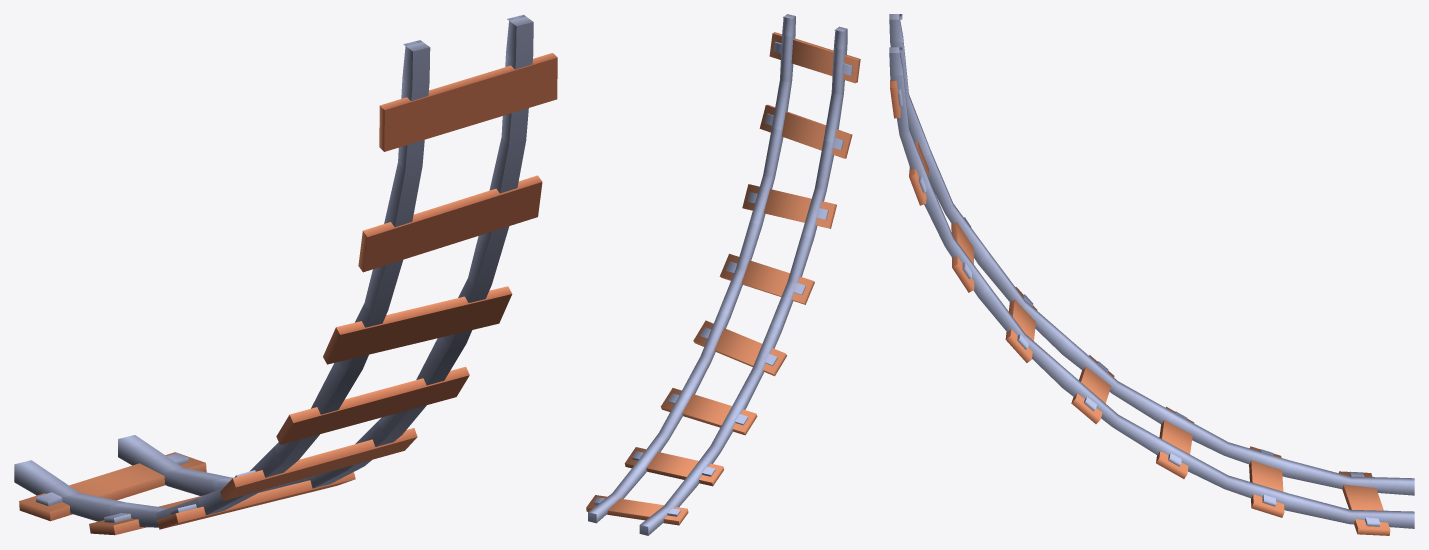
The model's file is railroad-damaged-straight-bend-large.glb.
3 views of the same model, side by side, from view 1: azimuth 30°, elevation 25°; view 2: azimuth 150°, elevation 25°; view 3: azimuth 270°, elevation 25° (orthographic). The views are drawn at different scales.
Visible parts, largest first — view 1: railroad-damaged-straight-bend-large; view 2: railroad-damaged-straight-bend-large; view 3: railroad-damaged-straight-bend-large.
Boxes of the visible parts, x1,y1,x2,y2 form: railroad-damaged-straight-bend-large: (14,15,557,535); railroad-damaged-straight-bend-large: (586,14,860,535); railroad-damaged-straight-bend-large: (889,14,1414,535).
Bounding box in the file's own units: 1.03 × 4 × 4.
1 material, 1 textured.
